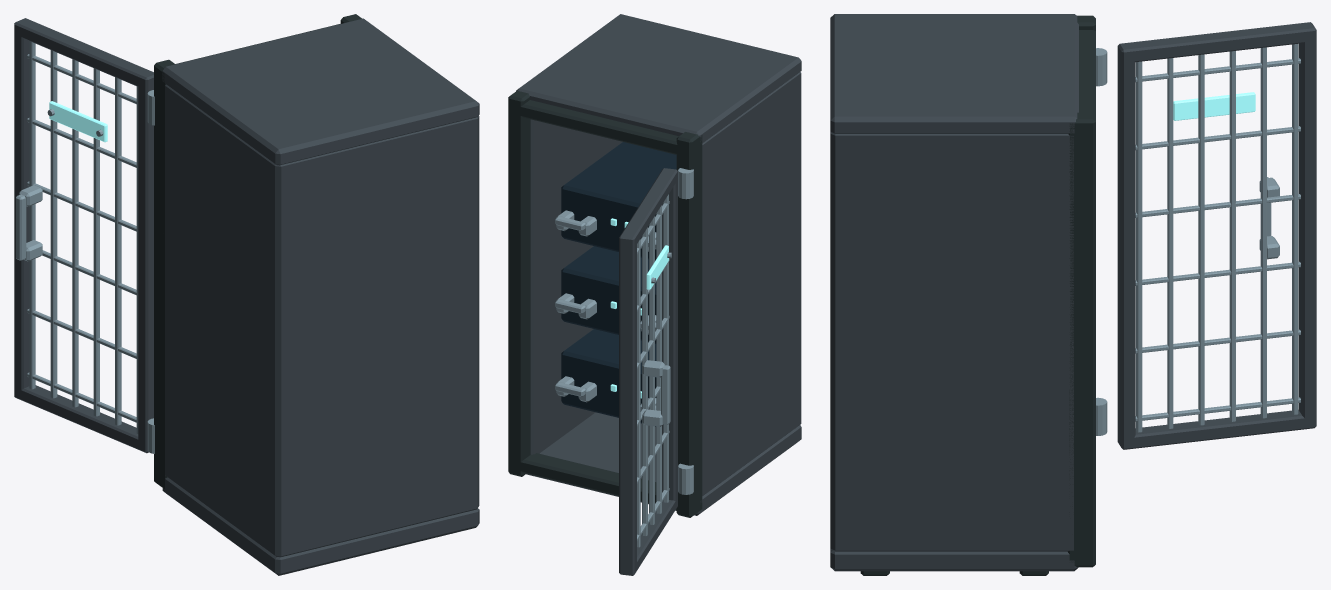
The model's file is server_service_cabinet_opened.glb.
3 views of the same model, side by side, from view 1: azimuth 30°, elevation 25°; view 2: azimuth 150°, elevation 25°; view 3: azimuth 270°, elevation 25° (orthographic). The views are drawn at different scales.
Parts seen in each view (by area): view 1: body_back_wall, body_side_wall (×2), body_roof, moving_door_grille (×10), moving_door_upright (×2), body_floor, moving_door_rail (×2), front_side_frame, moving_service_id_plate, moving_handle_grip; view 2: body_side_wall (×2), body_roof, front_side_frame (×2), server_module (×3), moving_door_upright (×2), moving_door_grille (×5), front_cross_frame (×2), body_floor, moving_door_rail (×2), hinge_pin (×2), body_back_wall, moving_handle_grip (+1 smaller); view 3: body_side_wall, body_roof, moving_door_grille (×12), moving_door_upright (×2), front_side_frame, moving_door_rail (×2), body_floor, body_back_wall, front_cross_frame, moving_service_id_plate.
Boxes of the visible parts, x1,y1,x2,y2 form: body_back_wall: (268, 118, 477, 556); body_side_wall (×2): (165, 84, 479, 557); body_roof: (162, 18, 479, 165); moving_door_grille (×10): (27, 41, 138, 433); moving_door_upright (×2): (14, 18, 153, 453); body_floor: (162, 477, 479, 575); moving_door_rail (×2): (14, 19, 153, 451); front_side_frame: (154, 59, 174, 488); moving_service_id_plate: (49, 101, 107, 142); moving_handle_grip: (16, 194, 26, 260); body_side_wall (×2): (530, 72, 801, 495); body_roof: (516, 14, 801, 143); front_side_frame (×2): (508, 90, 702, 517); server_module (×3): (561, 142, 676, 426); moving_door_upright (×2): (619, 168, 677, 575); moving_door_grille (×5): (637, 194, 668, 547); front_cross_frame (×2): (508, 100, 702, 512); body_floor: (526, 412, 801, 515); moving_door_rail (×2): (619, 169, 677, 574); hinge_pin (×2): (678, 168, 693, 494); body_back_wall: (795, 73, 801, 427); moving_handle_grip: (661, 365, 670, 424); body_side_wall: (830, 132, 1073, 551); body_roof: (830, 14, 1078, 133); moving_door_grille (×12): (1135, 44, 1300, 432); moving_door_upright (×2): (1117, 22, 1316, 449); front_side_frame: (1068, 112, 1095, 567); moving_door_rail (×2): (1117, 22, 1316, 449); body_floor: (830, 549, 1078, 571); body_back_wall: (830, 132, 850, 551); front_cross_frame: (1069, 30, 1095, 140); moving_service_id_plate: (1173, 92, 1255, 120).
Bounding box in the file's own units: 1.1 × 1.77 × 1.66.
